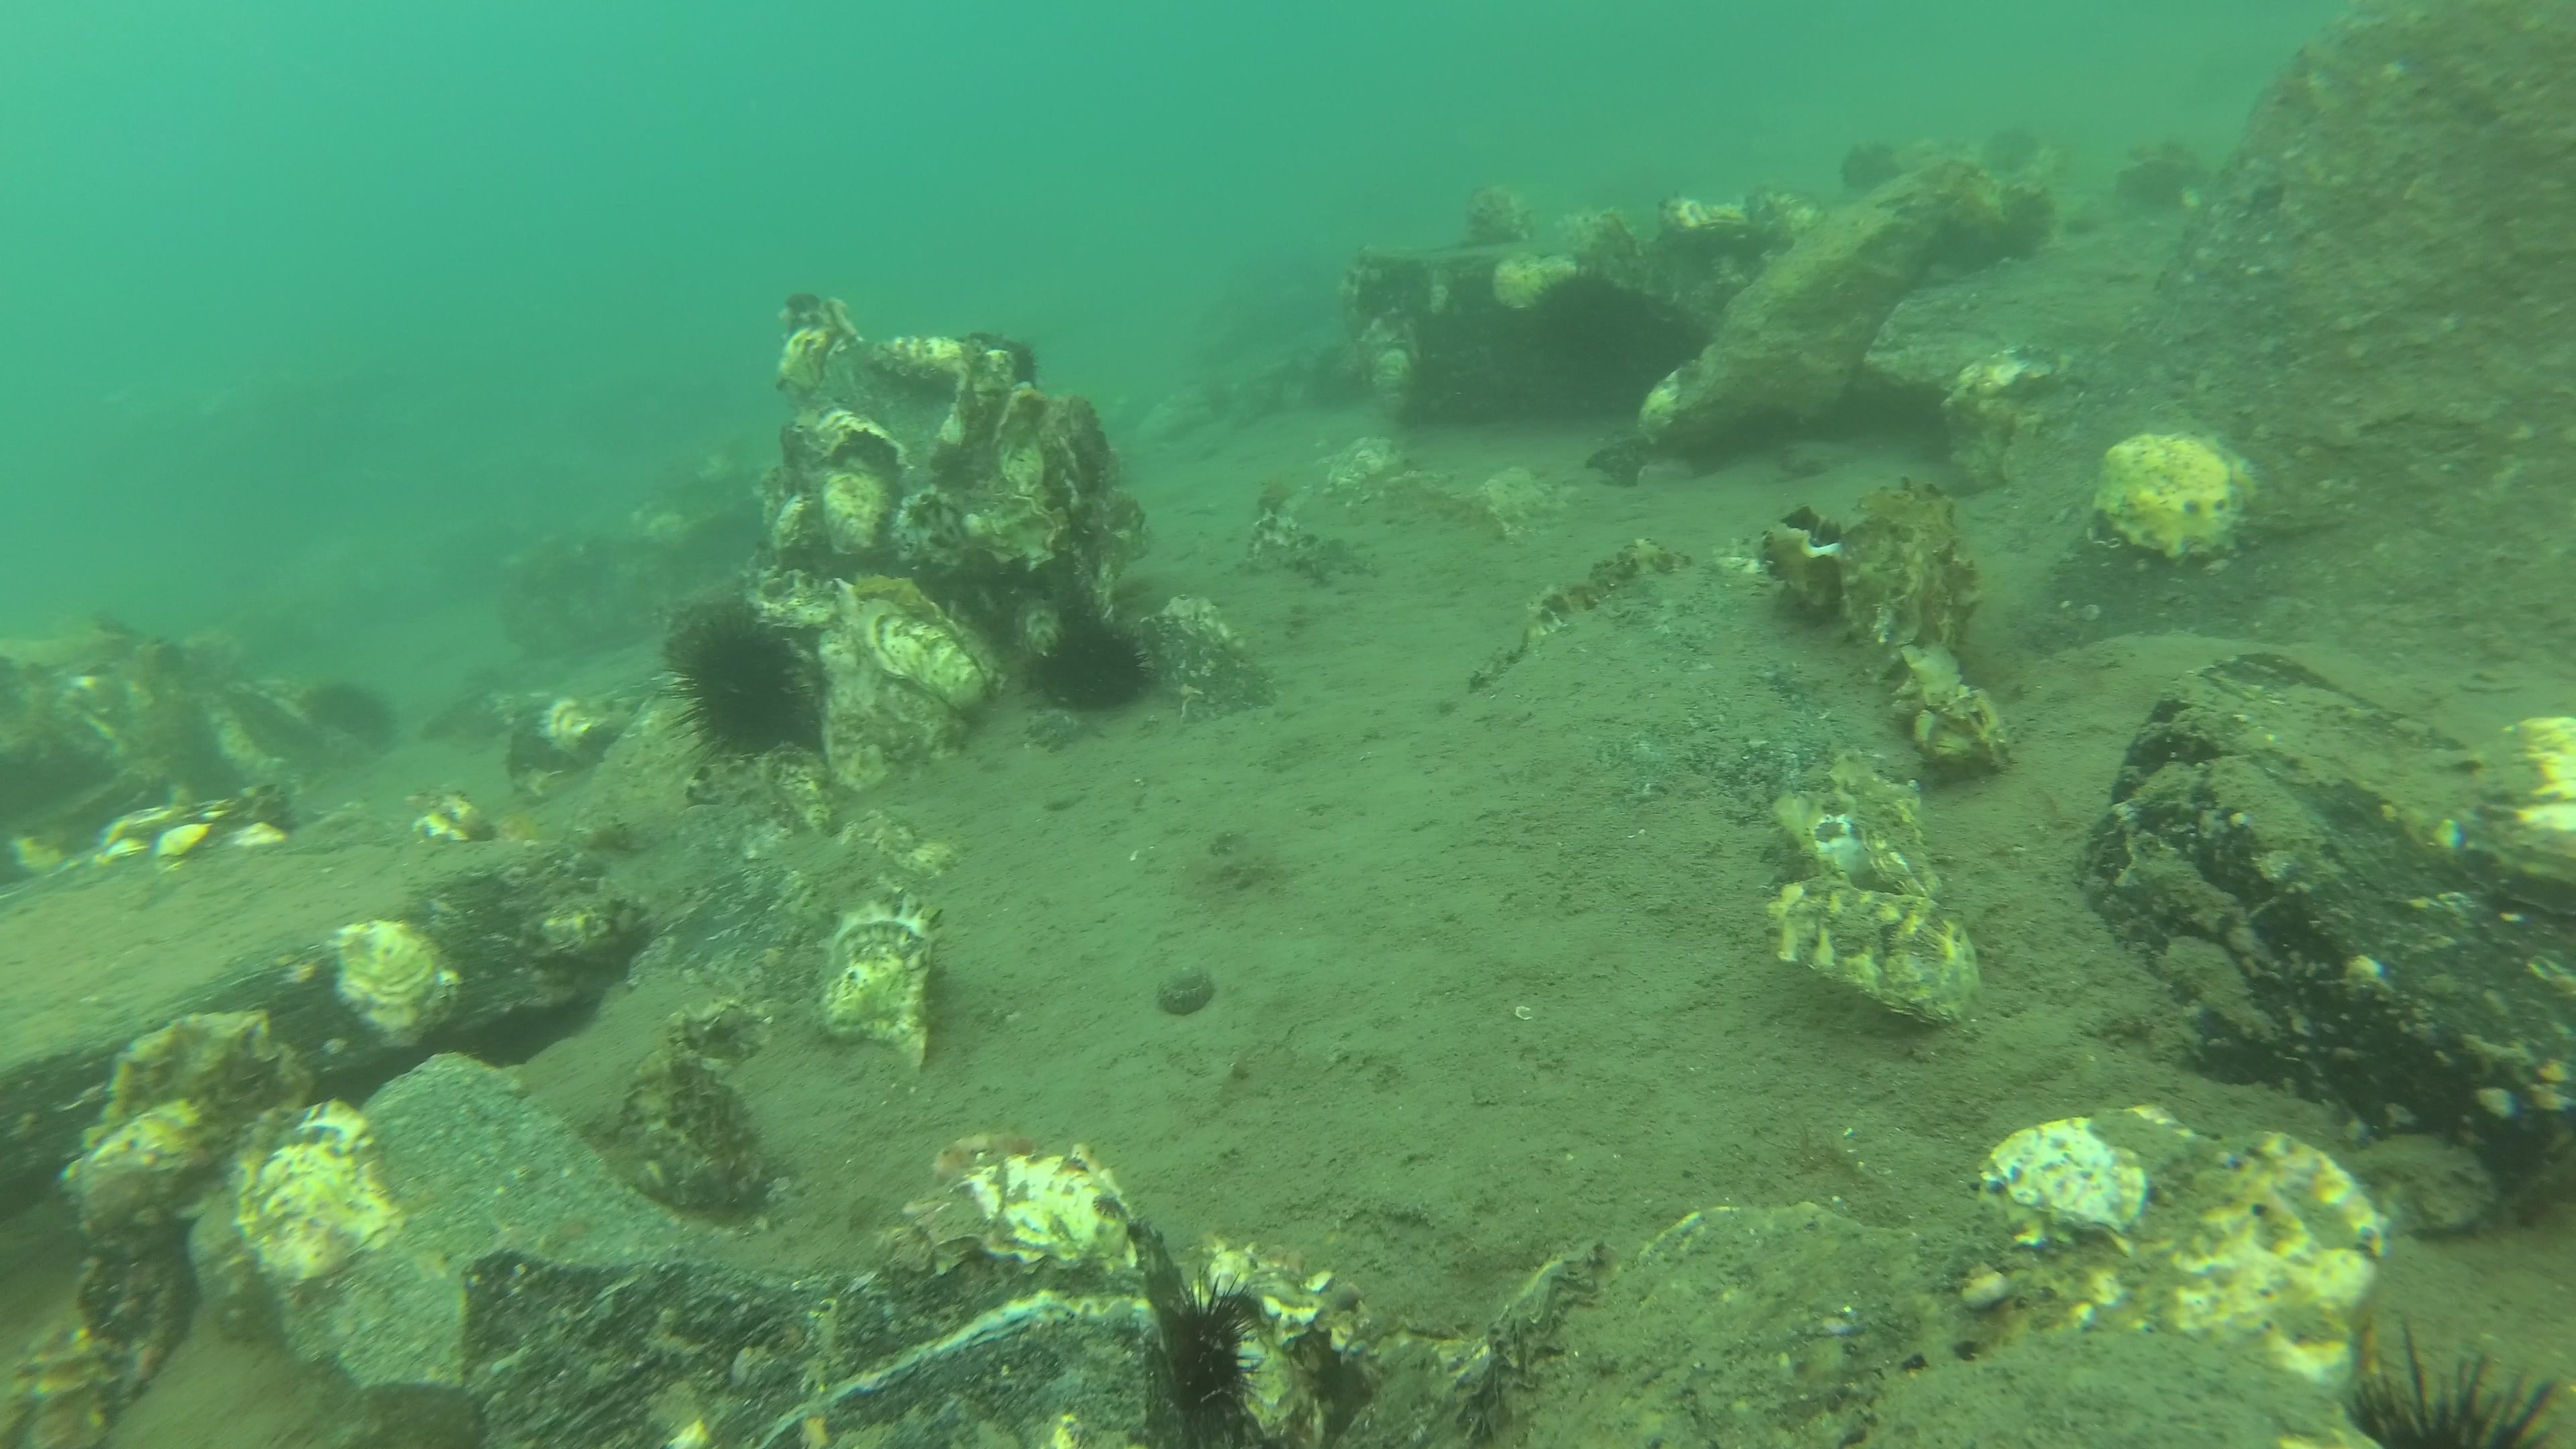echinus: (2344, 1313, 2567, 1449), (651, 603, 817, 768), (1168, 1256, 1269, 1449), (1019, 603, 1157, 715), (294, 678, 403, 759)
